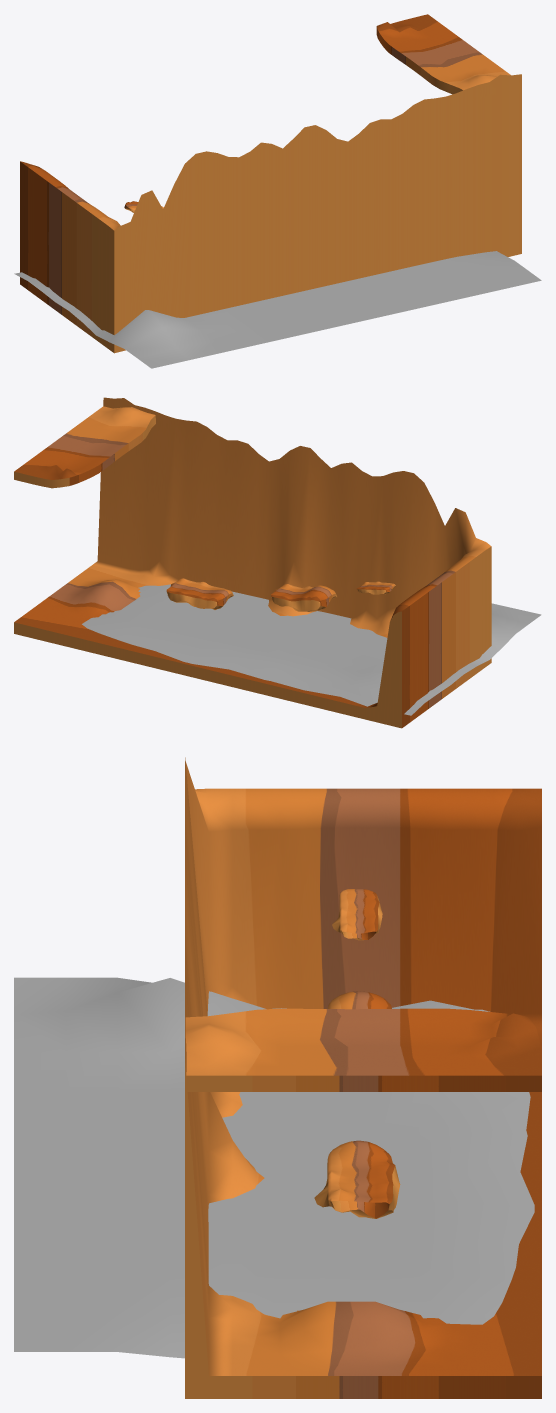
File: tileableHardCanyonEnd.fbx
The picture shows the model from 3 angles, top to bottom: view 1: azimuth 30°, elevation 25°; view 2: azimuth 150°, elevation 25°; view 3: azimuth 270°, elevation 25°; orthographic projection. The views are drawn at different scales.
Visible parts, largest first — view 1: tileableHardCanyonEnd, tileableHardLavaFloor1, tileableHardCanyonEnd2; view 2: tileableHardCanyonEnd, tileableHardLavaFloor1, tileableHardCanyonEnd2, tileableHardCanyonRock1, tileableHardCanyonRock2; view 3: tileableHardLavaFloor1, tileableHardCanyonEnd, tileableHardCanyonEnd2, tileableHardCanyonRock1, tileableHardCanyonRock3, tileableHardCanyonRock2.
Part boxes in pixels (left/top/right/bottom): tileableHardCanyonEnd: left=20, top=74, right=521, bottom=353; tileableHardLavaFloor1: left=14, top=251, right=541, bottom=368; tileableHardCanyonEnd2: left=376, top=14, right=521, bottom=100; tileableHardCanyonEnd: left=14, top=397, right=491, bottom=728; tileableHardLavaFloor1: left=82, top=584, right=541, bottom=715; tileableHardCanyonEnd2: left=14, top=406, right=155, bottom=488; tileableHardCanyonRock1: left=166, top=578, right=233, bottom=609; tileableHardCanyonRock2: left=271, top=584, right=336, bottom=611; tileableHardLavaFloor1: left=14, top=977, right=534, bottom=1358; tileableHardCanyonEnd: left=185, top=757, right=541, bottom=1398; tileableHardCanyonEnd2: left=185, top=1008, right=541, bottom=1091; tileableHardCanyonRock1: left=314, top=1140, right=400, bottom=1218; tileableHardCanyonRock3: left=332, top=889, right=382, bottom=940; tileableHardCanyonRock2: left=328, top=991, right=391, bottom=1009.
Size of the model in its own units: 0.5098 by 0.2159 by 0.2959.
